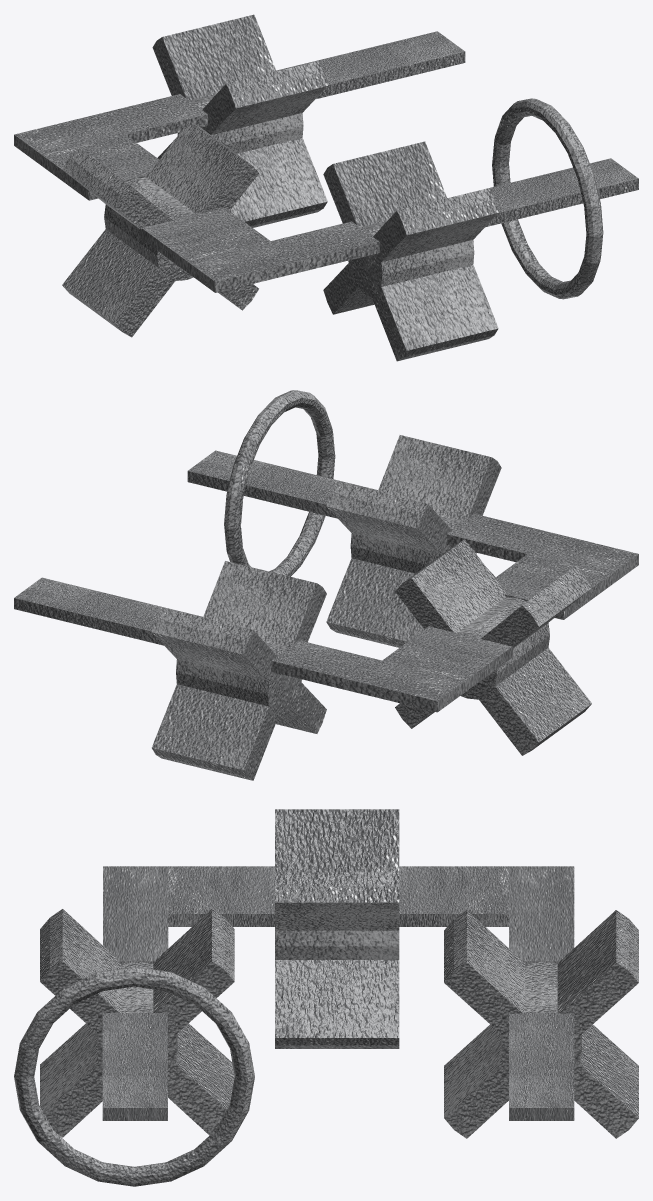
Rendered from nivel_ruedas.fbx.
3 views of the same model, one above another, from view 1: azimuth 30°, elevation 25°; view 2: azimuth 150°, elevation 25°; view 3: azimuth 270°, elevation 25° (orthographic). The views are drawn at different scales.
Parts seen in each view (by area): view 1: Cylinder.002, Cylinder, Cylinder.001, Plane.002, Plane.001, Torus, Plane, Plane.003; view 2: Cylinder, Cylinder.002, Cylinder.001, Plane.001, Plane.002, Torus, Plane, Plane.003; view 3: Cylinder.001, Cylinder, Cylinder.002, Torus, Plane.001, Plane.002, Plane.003, Plane.
Boxes of the visible parts, x1,y1,x2,y2 form: Cylinder.002: (323,141,498,361); Cylinder: (152,14,327,227); Cylinder.001: (62,121,258,337); Plane.002: (140,208,379,292); Plane.001: (14,94,207,200); Torus: (492,98,603,299); Plane: (276,31,465,99); Plane.003: (485,158,638,227); Cylinder: (151,561,326,780); Cylinder.002: (326,435,501,647); Cylinder.001: (395,539,591,755); Plane.001: (271,626,512,712); Plane.002: (446,514,638,619); Torus: (224,390,335,576); Plane: (14,577,202,645); Plane.003: (187,450,377,518); Cylinder.001: (275,809,399,1048); Cylinder: (444,910,638,1138); Cylinder.002: (40,909,234,1137); Torus: (14,966,254,1186); Plane.001: (398,866,574,963); Plane.002: (103,866,278,963); Plane.003: (102,1013,167,1120); Plane: (509,1013,574,1120).
Size of the model in its own units: 540 by 217 by 555.
1 material, 1 textured.
